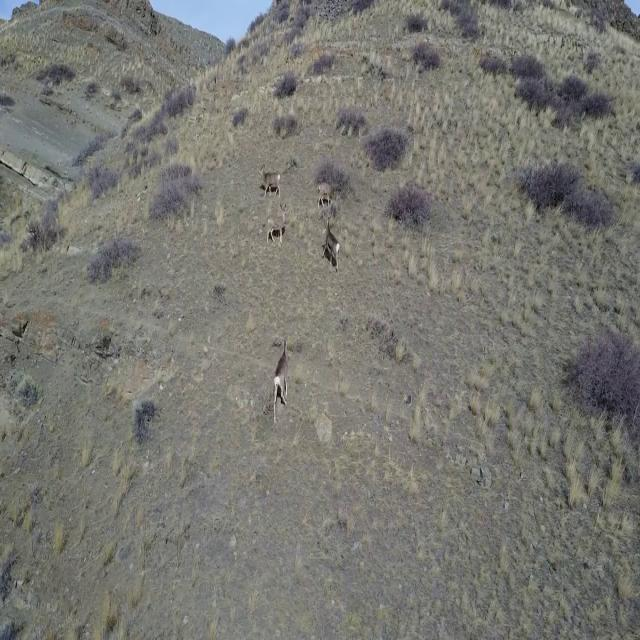Deer: (270, 334, 294, 421), (265, 198, 289, 248), (322, 212, 342, 270), (260, 156, 283, 198), (318, 174, 338, 215)
